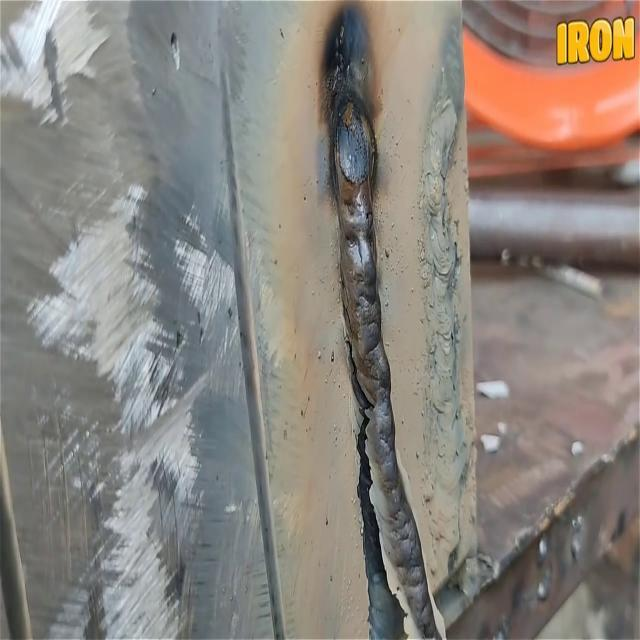Bad Weld: (319, 15, 443, 639), (421, 95, 470, 576)
Defect: (334, 247, 400, 639)
